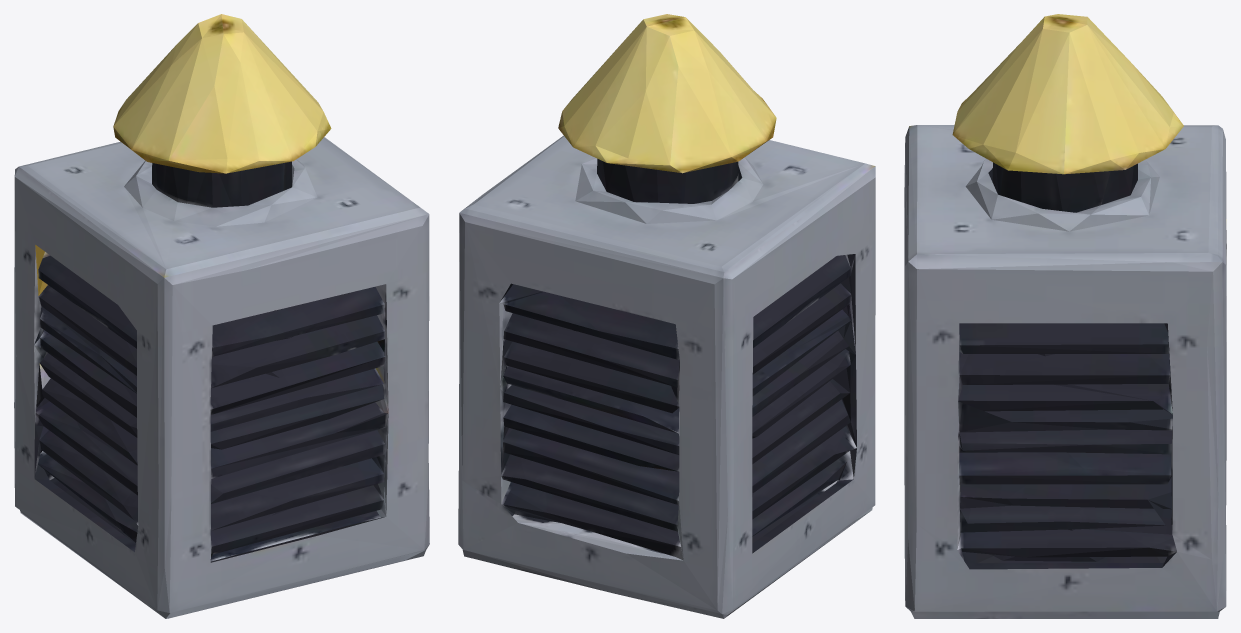
File: vent.glb
The picture shows the model from 3 angles, left to right: view 1: azimuth 30°, elevation 25°; view 2: azimuth 150°, elevation 25°; view 3: azimuth 270°, elevation 25°; orthographic projection. The views are drawn at different scales.
Visible parts, largest first — view 1: figure; view 2: figure; view 3: figure.
Part boxes in pixels (left/top/right/bottom): figure: left=14, top=14, right=429, bottom=618; figure: left=458, top=14, right=875, bottom=618; figure: left=904, top=14, right=1226, bottom=618.
Bounding box in the file's own units: 0.5593 × 1 × 0.5484.
1 material, 1 textured.
